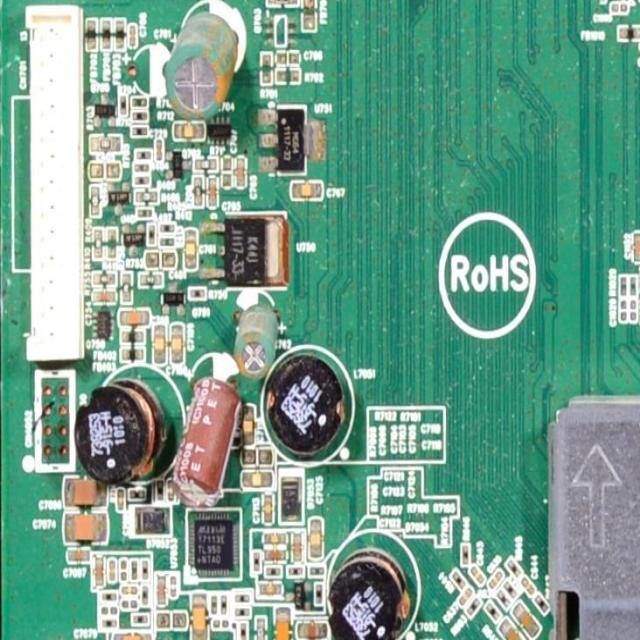IC: (201, 221, 279, 279), (260, 108, 318, 174), (189, 510, 240, 578), (210, 118, 232, 143)
capacitor: (64, 514, 107, 545), (64, 478, 108, 508), (512, 603, 538, 634), (191, 595, 207, 640), (308, 516, 324, 558), (89, 132, 121, 152), (498, 619, 528, 640), (184, 228, 198, 269), (171, 322, 185, 363), (153, 323, 167, 364), (466, 564, 490, 587), (120, 309, 150, 327), (292, 182, 321, 200), (174, 122, 204, 139), (156, 612, 187, 628), (275, 608, 290, 640), (242, 448, 272, 464), (299, 623, 328, 639), (243, 406, 255, 443), (91, 165, 122, 179), (243, 473, 273, 487), (456, 586, 476, 606), (262, 531, 288, 546), (235, 156, 247, 188), (258, 583, 283, 598), (276, 51, 301, 66), (486, 568, 503, 590), (207, 176, 218, 208), (292, 532, 304, 561), (263, 492, 274, 523), (66, 549, 90, 563), (156, 576, 167, 606), (264, 550, 287, 564), (94, 290, 117, 304), (520, 576, 536, 596), (94, 557, 105, 586), (222, 157, 232, 188), (167, 479, 176, 503), (117, 490, 126, 513), (168, 576, 177, 598), (633, 234, 640, 262), (108, 559, 116, 583), (121, 598, 137, 610), (612, 2, 629, 13), (128, 24, 136, 47), (122, 586, 138, 596), (102, 607, 118, 617), (629, 301, 637, 321), (120, 560, 127, 582), (621, 301, 628, 321), (212, 620, 228, 628)
resistor: (145, 252, 177, 270), (495, 589, 514, 611), (261, 54, 273, 86), (484, 600, 500, 623), (120, 274, 132, 304), (457, 545, 473, 567), (94, 227, 105, 259), (94, 271, 116, 286), (502, 579, 518, 598), (277, 69, 300, 82), (106, 228, 116, 257), (139, 274, 163, 286), (134, 191, 156, 204), (451, 569, 466, 587), (189, 287, 206, 300), (220, 592, 229, 616), (132, 612, 150, 624), (131, 96, 149, 108), (268, 0, 298, 7), (265, 565, 284, 576), (117, 96, 127, 116), (315, 583, 324, 605), (100, 591, 118, 602), (288, 566, 304, 578), (619, 274, 627, 298), (252, 550, 260, 572), (234, 592, 250, 603), (132, 111, 148, 122), (132, 126, 148, 137), (310, 566, 326, 576), (234, 607, 250, 617), (137, 150, 153, 160), (135, 165, 151, 175), (134, 176, 150, 186), (137, 208, 153, 218), (160, 237, 176, 247), (130, 489, 146, 499), (509, 561, 521, 574), (141, 584, 148, 606), (211, 594, 218, 616), (629, 274, 636, 296), (156, 482, 164, 501), (130, 560, 138, 578), (101, 619, 117, 628), (159, 224, 175, 233), (148, 222, 154, 245), (239, 623, 247, 640), (142, 560, 148, 580)
transistor: (164, 284, 187, 316), (288, 584, 314, 612), (122, 224, 144, 257), (95, 94, 116, 127), (167, 150, 190, 179), (109, 184, 131, 213), (93, 314, 113, 338)
